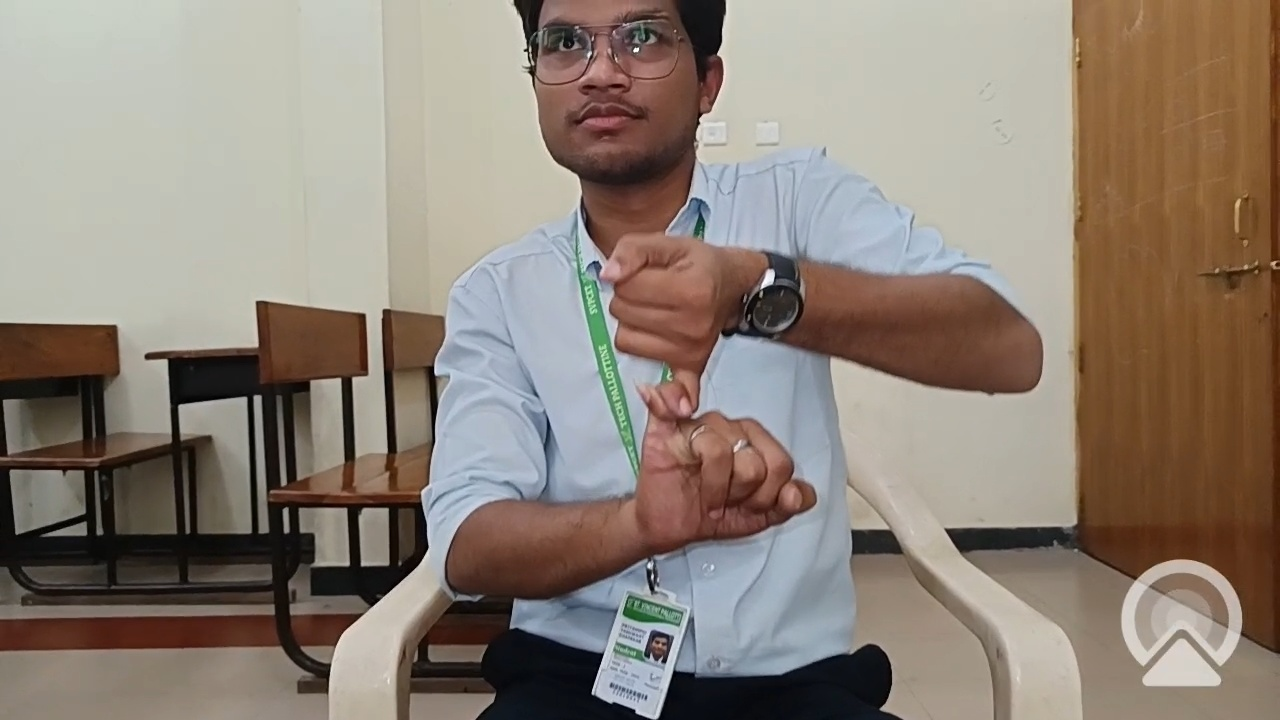S: (529, 209, 914, 617)
